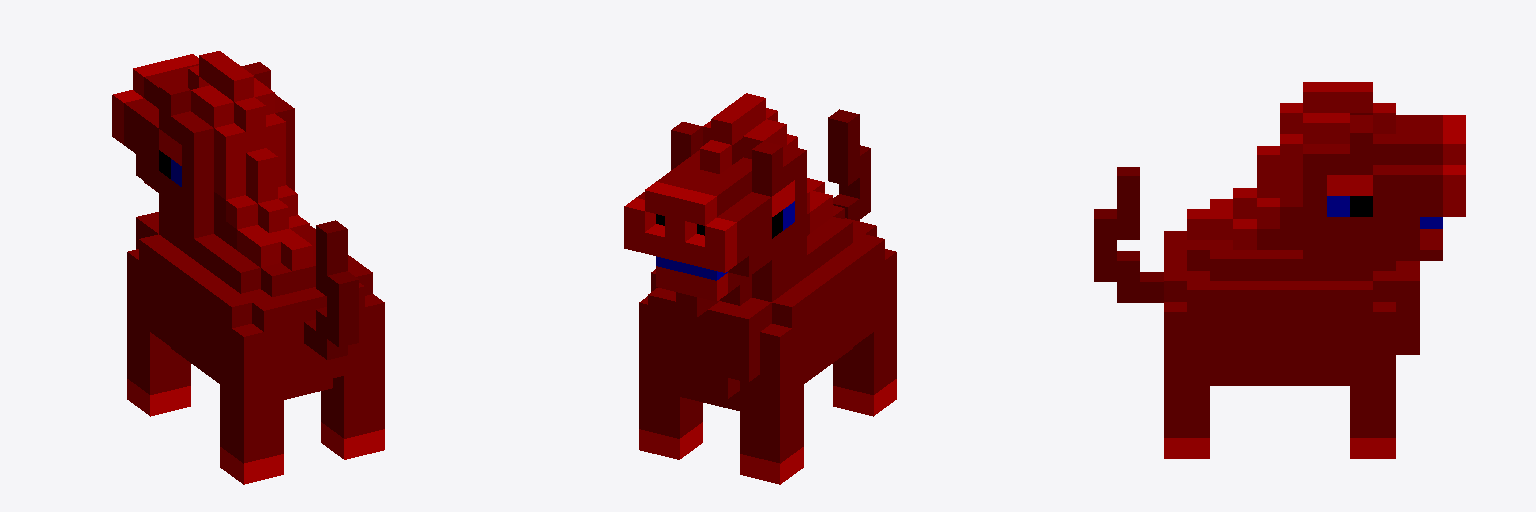
The picture shows the model from 3 angles: view 1: azimuth 30°, elevation 25°; view 2: azimuth 150°, elevation 25°; view 3: azimuth 270°, elevation 25°; orthographic projection.
Visible parts, largest first — view 1: horse; view 2: horse; view 3: horse.
Boxes of the visible parts, x1,y1,x2,y2 form: horse: [112, 51, 384, 484]; horse: [624, 93, 896, 484]; horse: [1094, 82, 1465, 458].
Bounding box in the file's own units: 7 × 16 × 16.
1 materials, 1 textured.